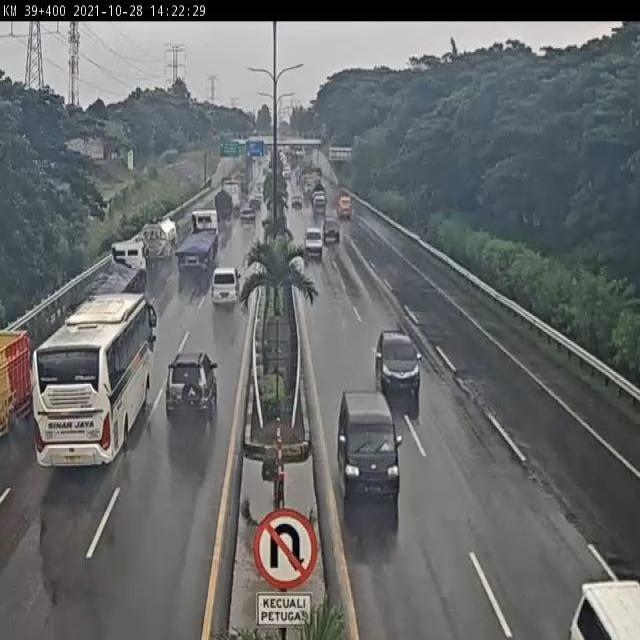big bus: (31, 292, 155, 463)
car: (333, 388, 401, 497), (167, 349, 219, 420), (375, 329, 424, 402), (209, 266, 238, 306), (302, 226, 324, 258), (322, 216, 342, 247)
truck-l-: (138, 215, 179, 262)
truck-s-: (0, 324, 35, 435)
truck-xl-: (75, 240, 150, 309), (176, 205, 224, 278)
